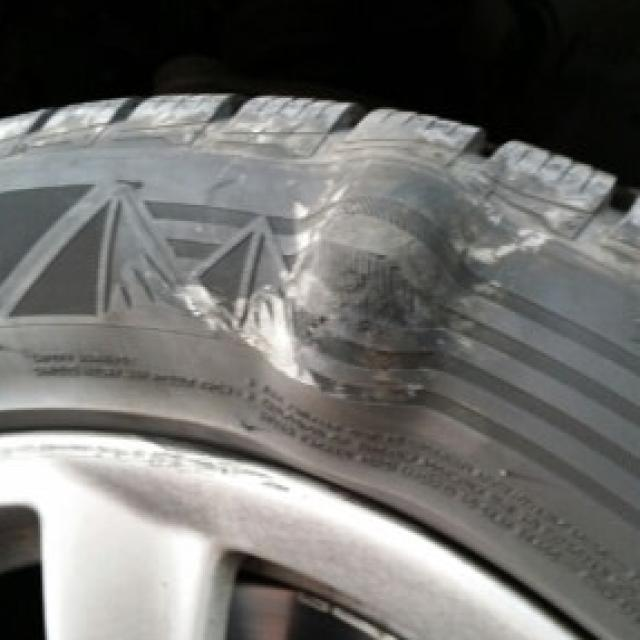Bulge: (256, 126, 502, 439)
